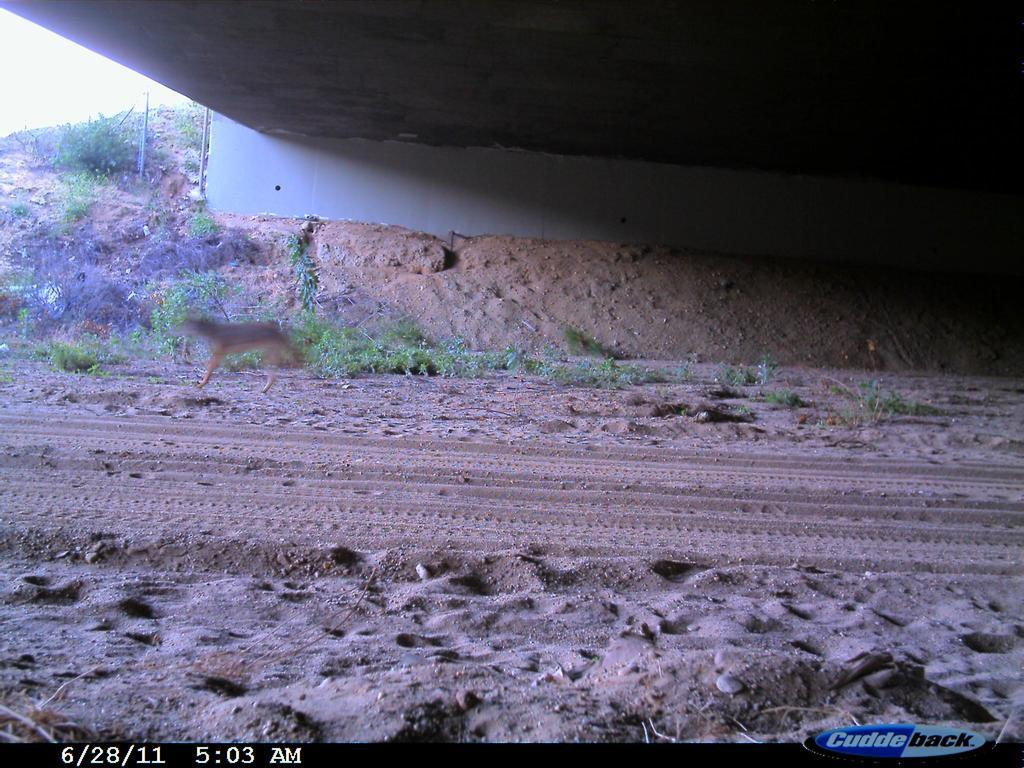coyote: (164, 292, 323, 404)
